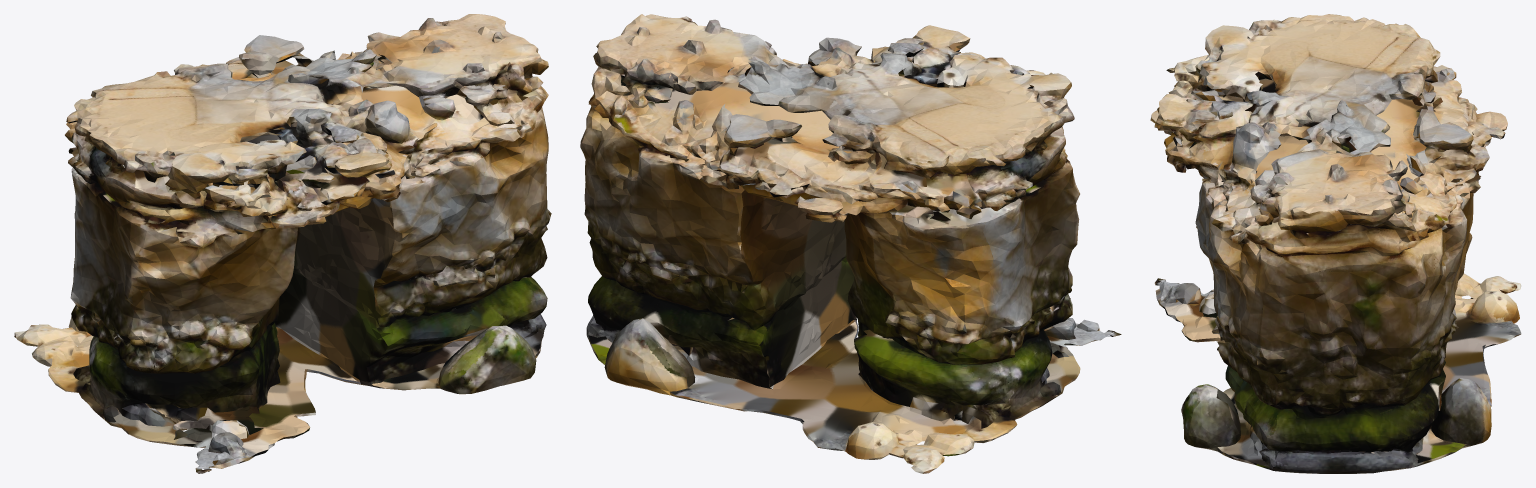
File: traveler_env_coast_mouth_moss_limestone_cove_00001_.glb
3 views of the same model, side by side, from view 1: azimuth 30°, elevation 25°; view 2: azimuth 150°, elevation 25°; view 3: azimuth 270°, elevation 25° (orthographic). The views are drawn at different scales.
Parts seen in each view (by area): view 1: temp_mesh.ply; view 2: temp_mesh.ply; view 3: temp_mesh.ply.
Boxes of the visible parts, x1,y1,x2,y2 form: temp_mesh.ply: (14,14,551,473); temp_mesh.ply: (580,14,1121,473); temp_mesh.ply: (1150,14,1521,473).
Bounding box in the file's own units: 1.98 × 1.26 × 1.54.
Materials: 1 (1 with a texture image).
